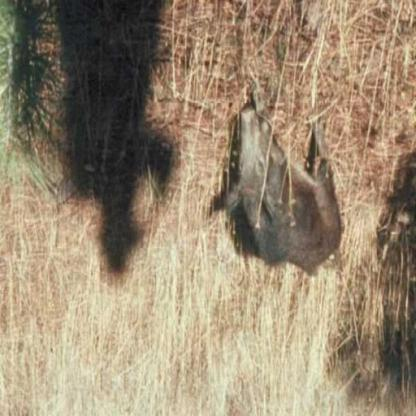boar: (184, 97, 407, 316)
